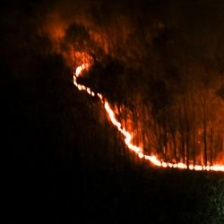fire: (69, 69, 224, 176)
